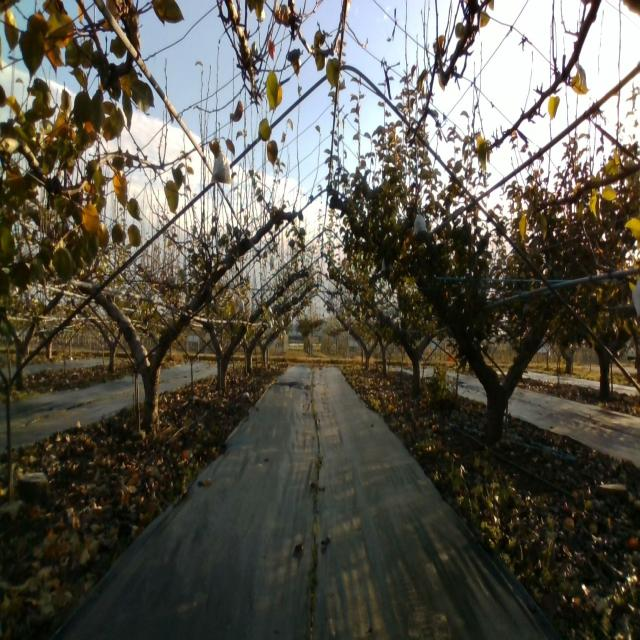pearbags: (211, 151, 232, 184), (412, 213, 428, 238)
